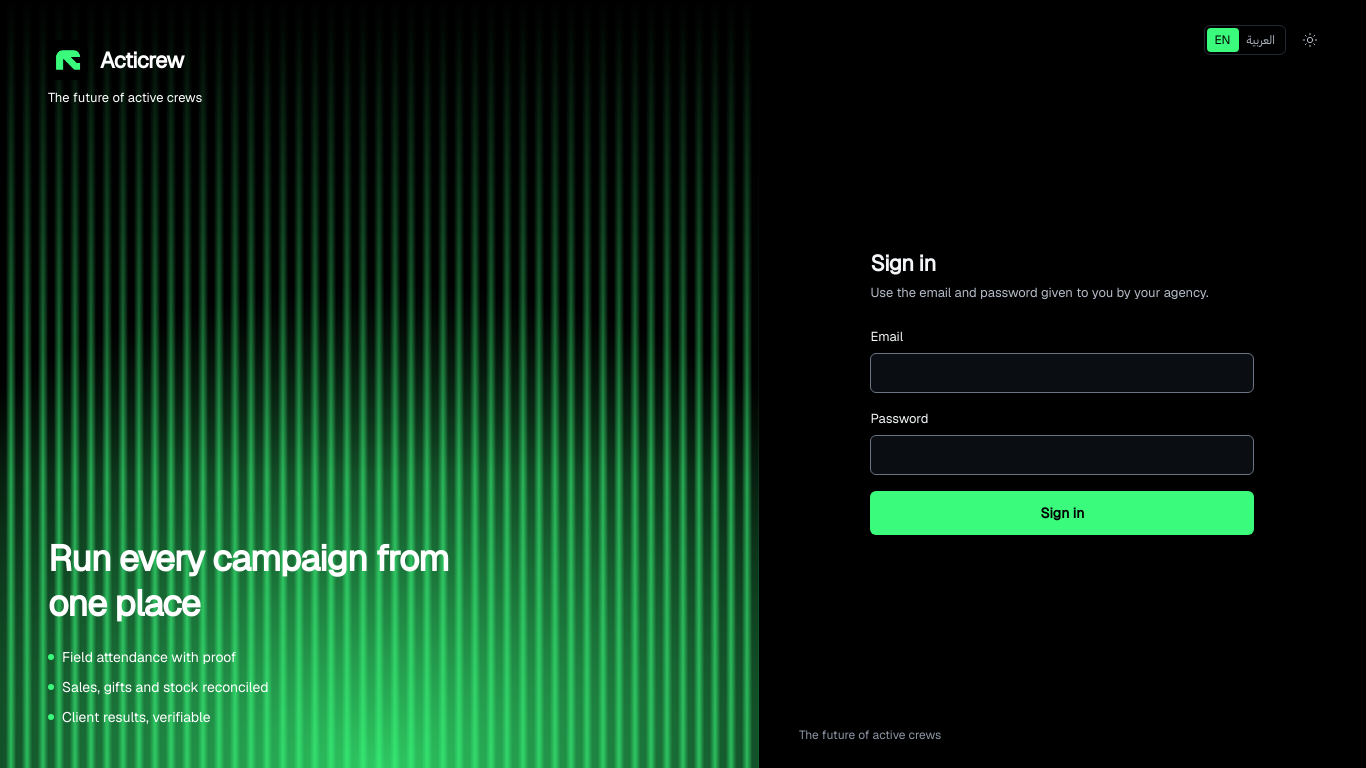
login page › shows INVALID_CREDENTIALS as a global error
Expected: the heading "Sign in" is shown, [870,248,936,276]
Type "amina@agency.dz" into the field labelled "Email" at [1062, 372], box [870,352,1254,392]
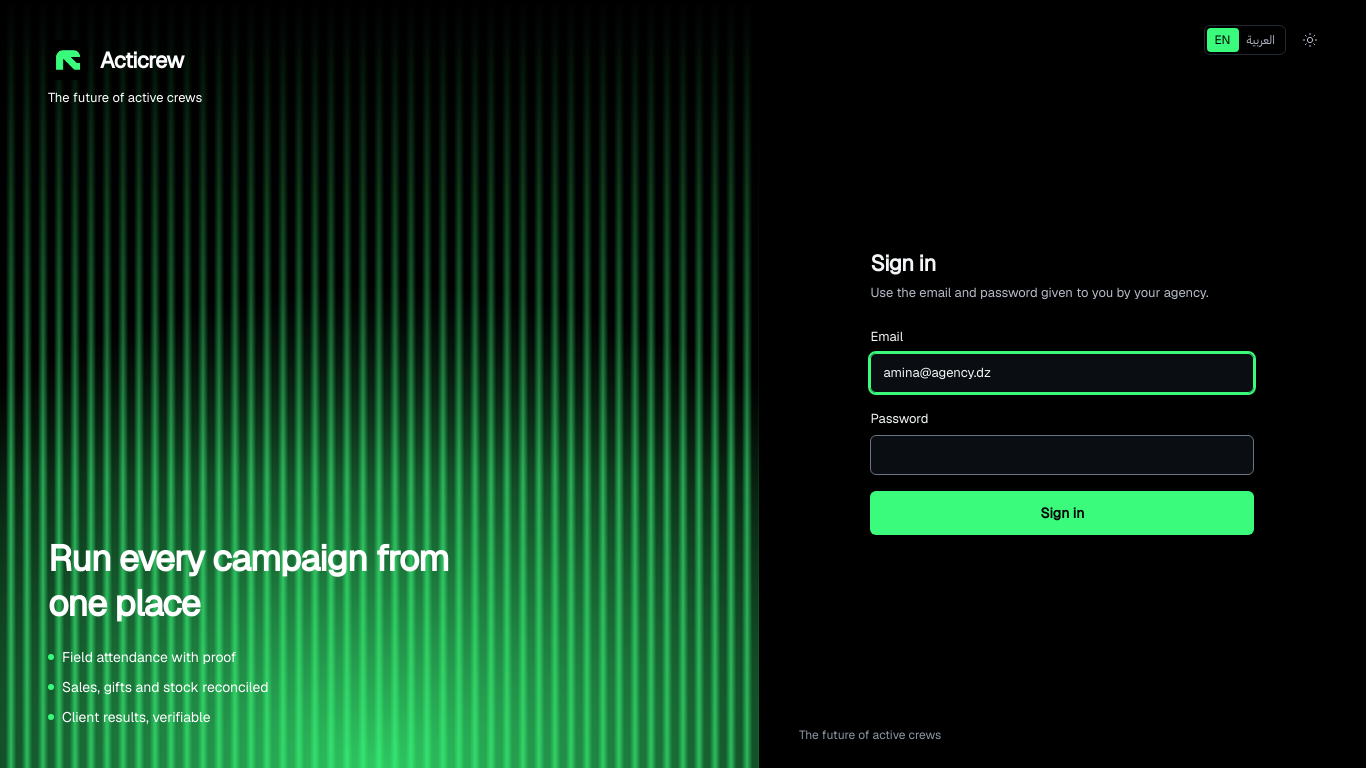
Type "secret-pass-1" into the password field labelled "Password" at [1062, 454], box [870,434,1254,474]
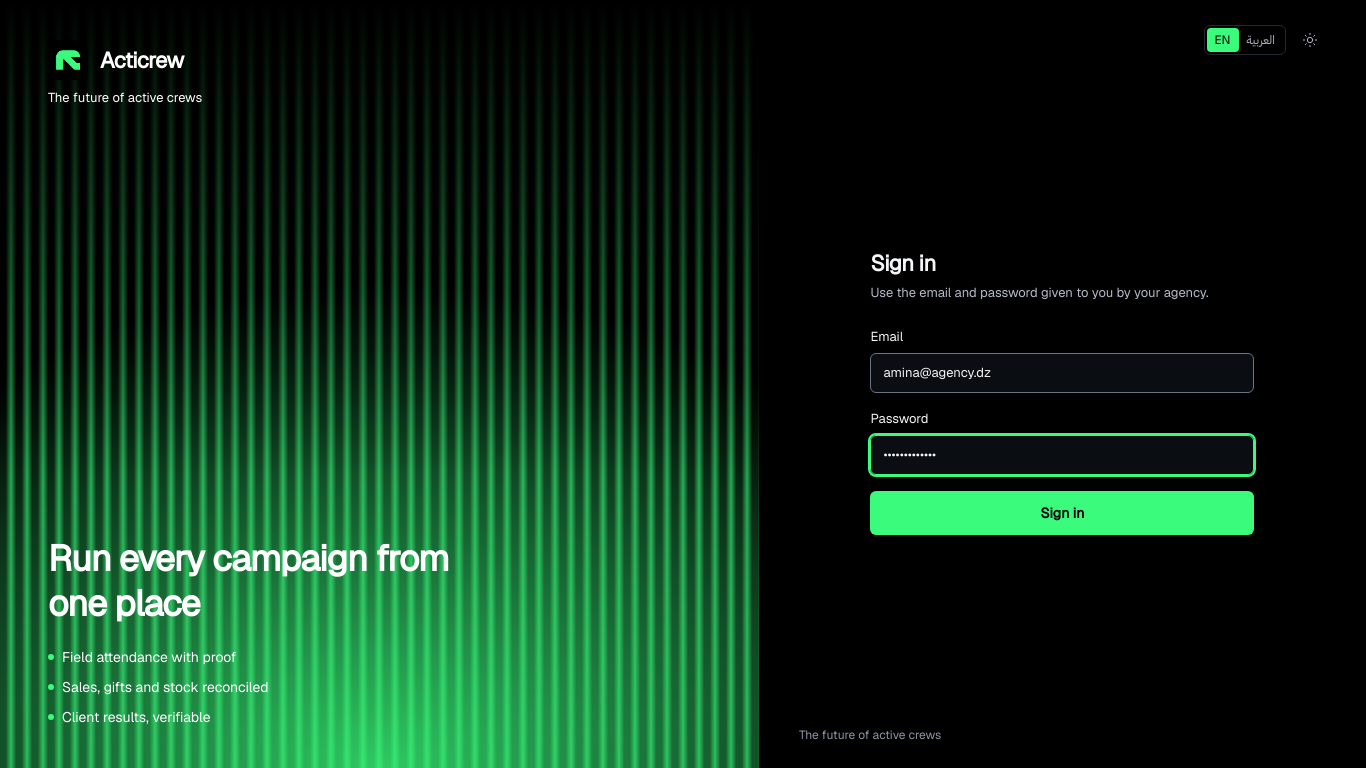
Click the button "Sign in" at [1062, 512], box [870,490,1254,534]
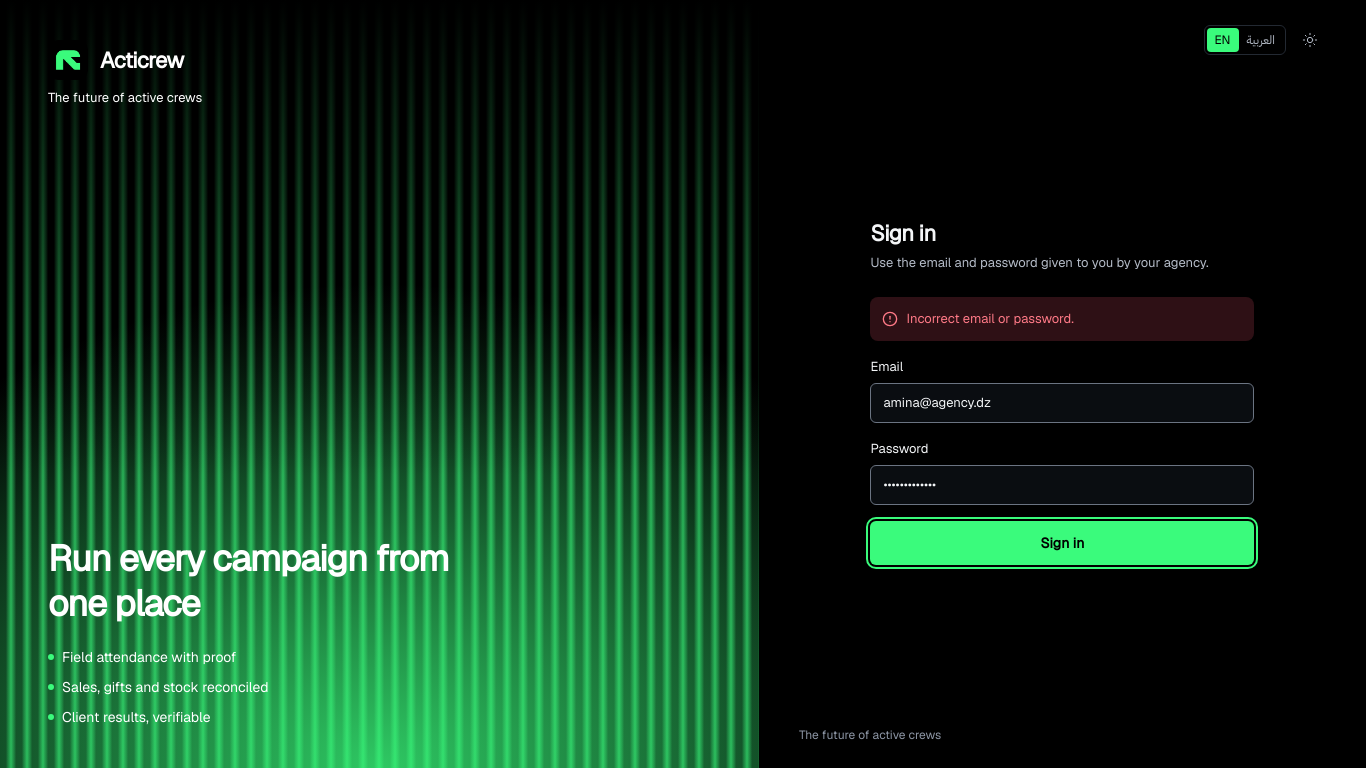
Now the message reads "Incorrect email or password.", box [906,310,1074,326]
